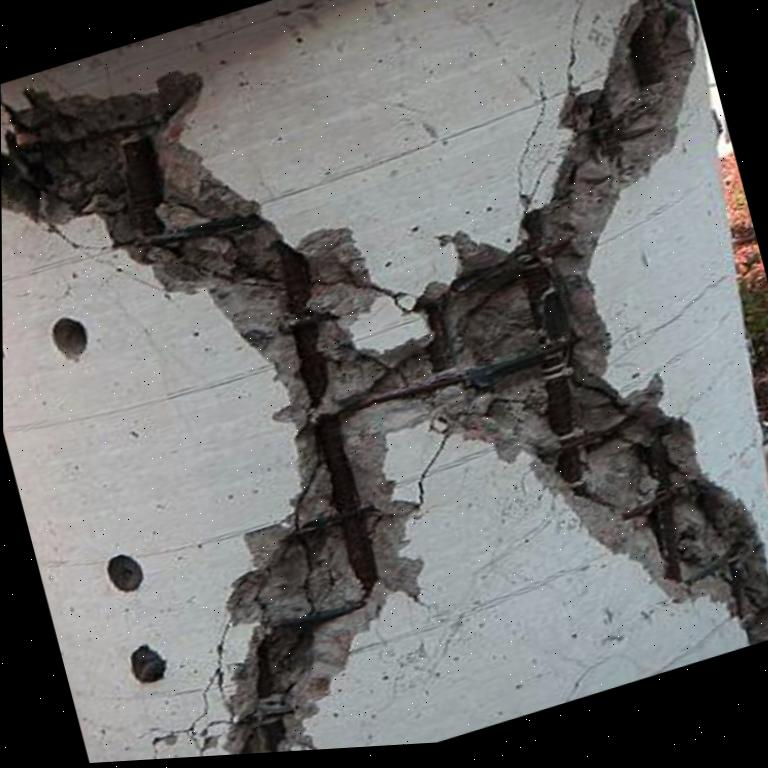exposed_rebar: (277, 241, 378, 590), (522, 259, 585, 486), (646, 442, 689, 582), (120, 133, 164, 208)
spalling: (1, 0, 768, 755)
